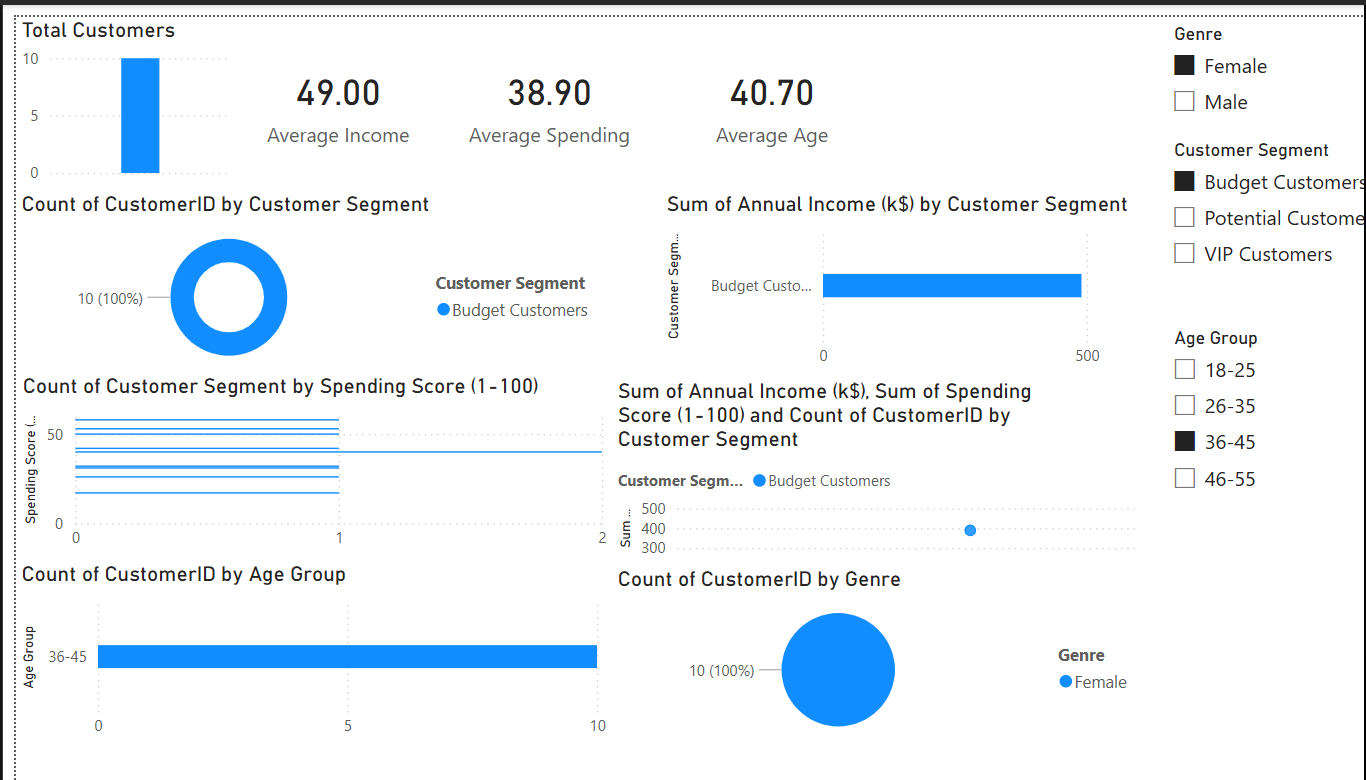

This screenshot's page, from the dashboard's own definition file:
{"tool":"powerbi","page":{"name":"Page 1","canvas":[1280,720],"ordinal":0},"visuals":[{"type":"clusteredColumnChart","fields":{"Y":["Mall_Customers.Total Customers"]},"box":[0,0,178,139],"z":0},{"type":"card","fields":{"Values":["Mall_Customers.Average Income"]},"box":[178,0,160,139],"z":1},{"type":"card","fields":{"Values":["Mall_Customers.Average Spending"]},"box":[338,0,178,139],"z":2},{"type":"card","fields":{"Values":["Mall_Customers.Average Age"]},"box":[516,0,178,139],"z":3},{"type":"donutChart","fields":{"Category":["Mall_Customers.Customer Segment"],"Y":["CountNonNull(Mall_Customers.CustomerID)"]},"box":[0,139,477,150],"z":4},{"type":"clusteredBarChart","fields":{"Category":["Mall_Customers.Customer Segment"],"Y":["Sum(Mall_Customers.Annual Income (k$))"]},"box":[516,139,398,150],"z":5},{"type":"clusteredBarChart","fields":{"Y":["CountNonNull(Mall_Customers.Customer Segment)"],"Category":["Mall_Customers.Spending Score (1-100)"]},"box":[1,285,477,150],"z":6},{"type":"scatterChart","fields":{"X":["Sum(Mall_Customers.Annual Income (k$))"],"Y":["Sum(Mall_Customers.Spending Score (1-100))"],"Series":["Mall_Customers.Customer Segment"]},"box":[477,289,427,150],"z":7},{"type":"clusteredBarChart","fields":{"Category":["Mall_Customers.Age Group"],"Y":["CountNonNull(Mall_Customers.CustomerID)"]},"box":[0,435,477,150],"z":8},{"type":"pieChart","fields":{"Category":["Mall_Customers.Genre"],"Y":["CountNonNull(Mall_Customers.CustomerID)"]},"box":[477,439,427,146],"z":9},{"type":"slicer","fields":{"Values":["Mall_Customers.Genre"]},"box":[913.8,0,366.2,92.5],"z":10},{"type":"slicer","fields":{"Values":["Mall_Customers.Customer Segment"]},"box":[913.8,92.5,366.2,150],"z":11},{"type":"slicer","fields":{"Values":["Mall_Customers.Age Group"]},"box":[913.8,242.5,366.2,150],"z":12}]}

Visuals, with their boxes in screenshot pixels (x1, y1, x2, y2), scaled from the page's 1280x720 canvas onto the 1366x780 screenshot:
clusteredColumnChart - Mall_Customers.Total Customers: 0/0/190/151
card - Mall_Customers.Average Income: 190/0/361/151
card - Mall_Customers.Average Spending: 361/0/551/151
card - Mall_Customers.Average Age: 551/0/741/151
donutChart - Mall_Customers.Customer Segment x CountNonNull(Mall_Customers.CustomerID): 0/151/509/313
clusteredBarChart - Mall_Customers.Customer Segment x Sum(Mall_Customers.Annual Income (k$)): 551/151/975/313
clusteredBarChart - CountNonNull(Mall_Customers.Customer Segment) x Mall_Customers.Spending Score (1-100): 1/309/510/471
scatterChart - Sum(Mall_Customers.Annual Income (k$)) x Sum(Mall_Customers.Spending Score (1-100)): 509/313/965/476
clusteredBarChart - Mall_Customers.Age Group x CountNonNull(Mall_Customers.CustomerID): 0/471/509/634
pieChart - Mall_Customers.Genre x CountNonNull(Mall_Customers.CustomerID): 509/476/965/634
slicer - Mall_Customers.Genre: 975/0/1365/100
slicer - Mall_Customers.Customer Segment: 975/100/1365/263
slicer - Mall_Customers.Age Group: 975/263/1365/425
